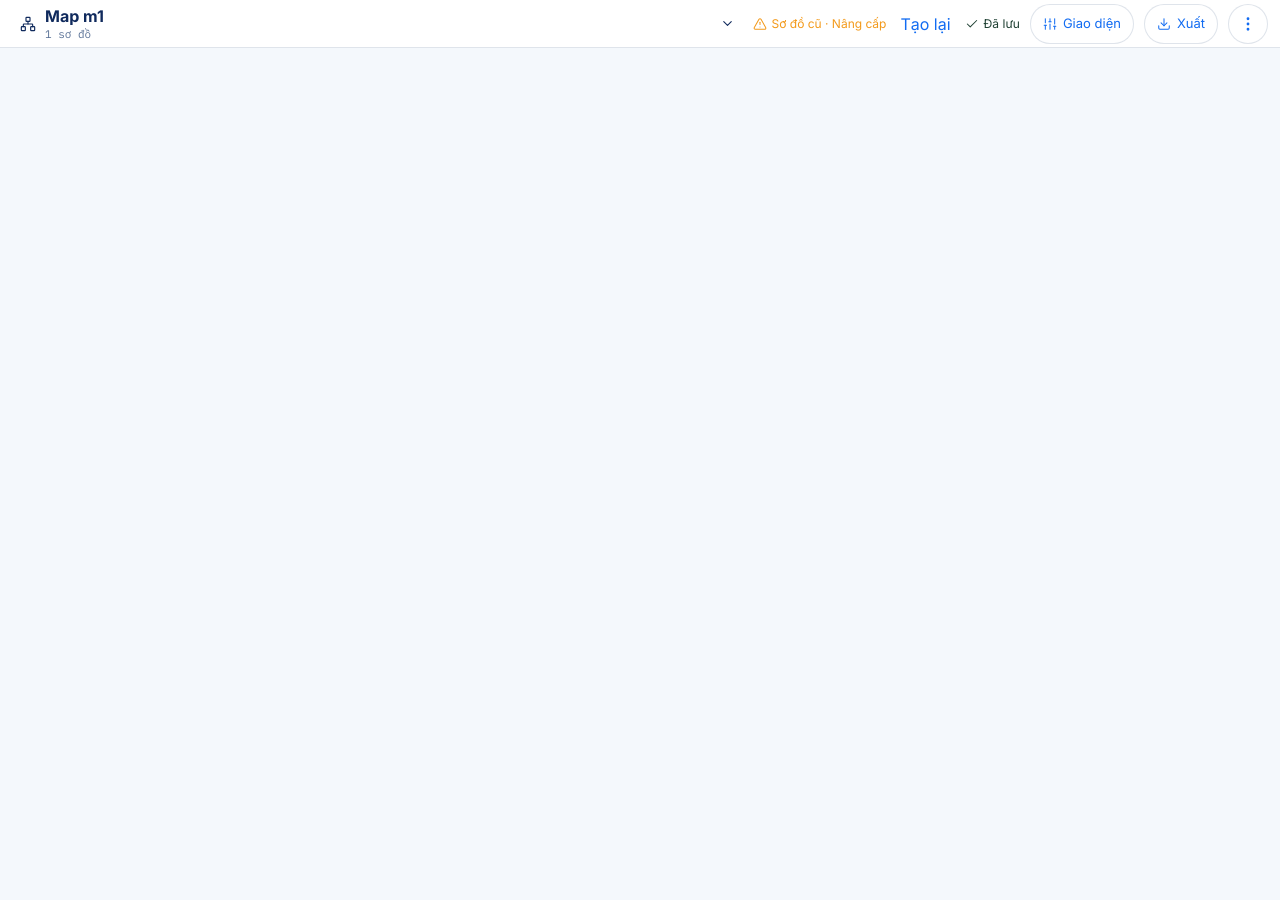
MindElixirView Export Studio › the header 'Xuất' button opens Export Studio
Step 1. Click the button with aria-label "Xuất sơ đồ" → (1181, 24), box [1144,4,1218,44]
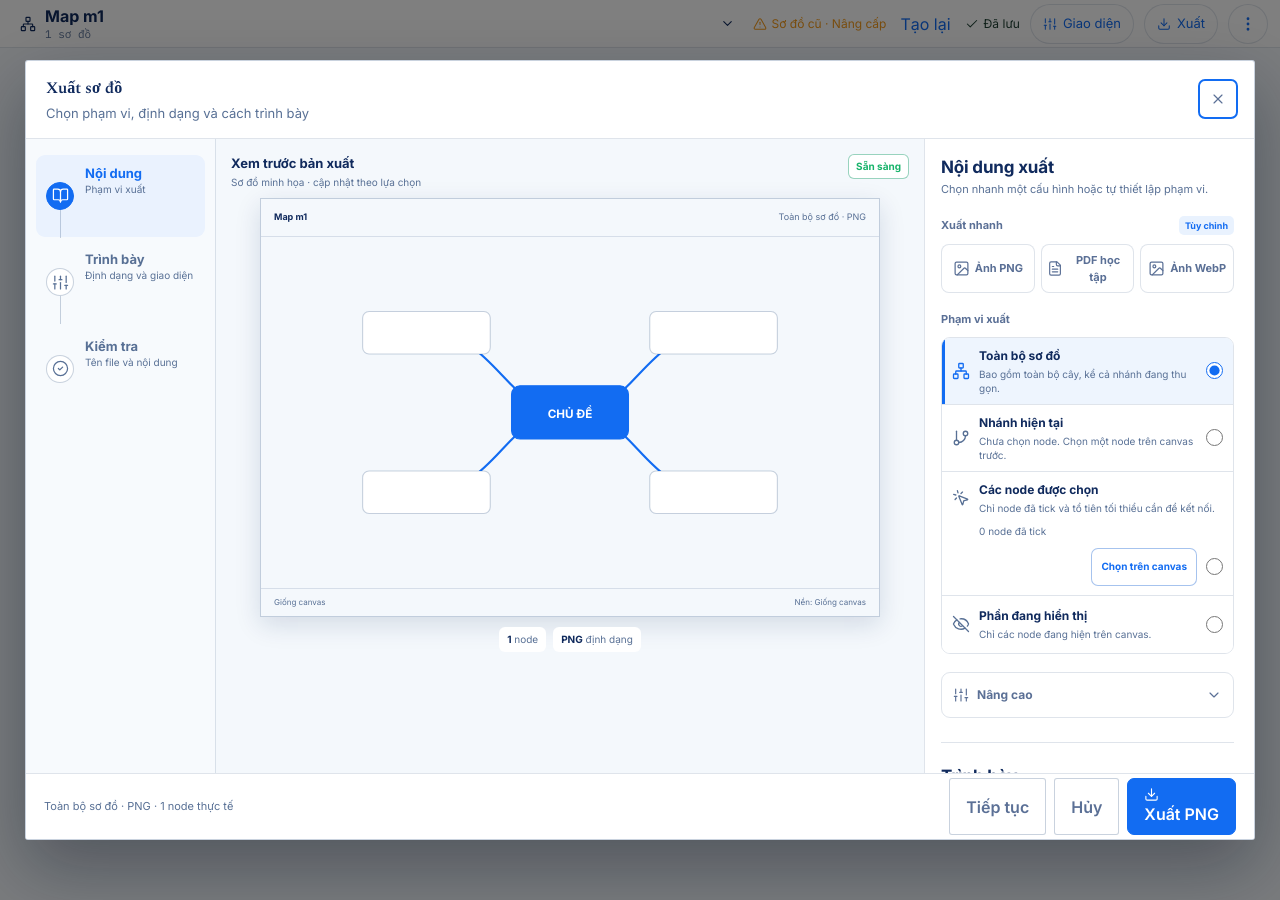
Expected: the dialog is shown
Expected: the dialog shows "Xuất sơ đồ", [46,76,122,100]
